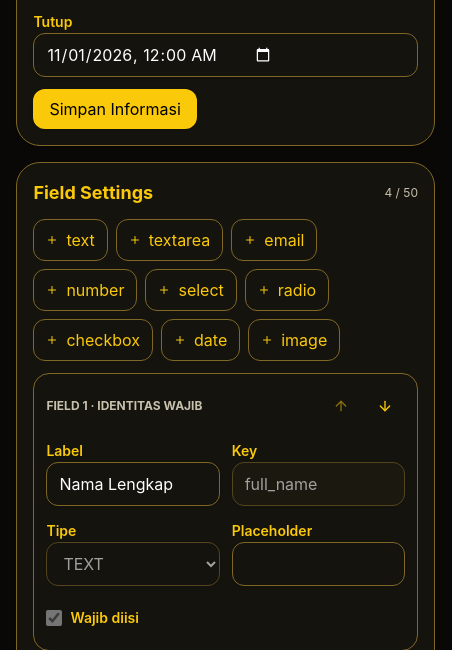
it: registration admin experience › adds an IMAGE structural field with a dropzone builder preview
(page scrolled)
Click the button "image": (294, 340) [248,319,340,361]
(page scrolled)
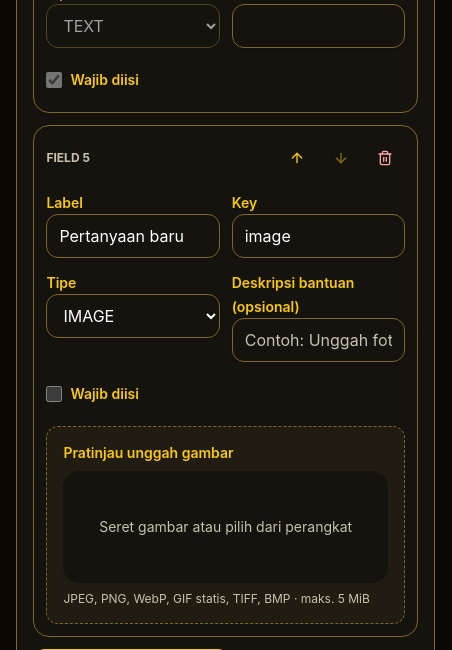
Now the text "Pratinjau unggah gambar" is shown, box [63,444,234,461]
Now the text "Seret gambar atau pilih dari perangkat" is shown, box [99,517,352,537]
Now the dropdown labelled "Tipe" below "Deskripsi bantuan (opsional)" shows "IMAGE", box [46,294,220,338]
